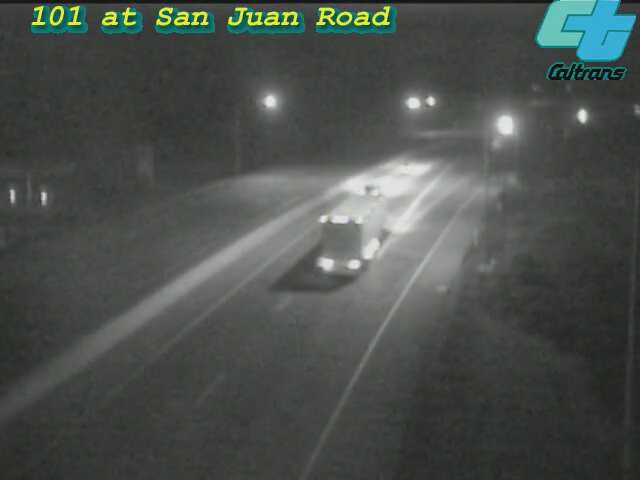vehicle: (365, 131, 445, 211), (338, 150, 418, 230), (311, 198, 391, 278), (482, 100, 532, 150), (555, 92, 605, 142)
